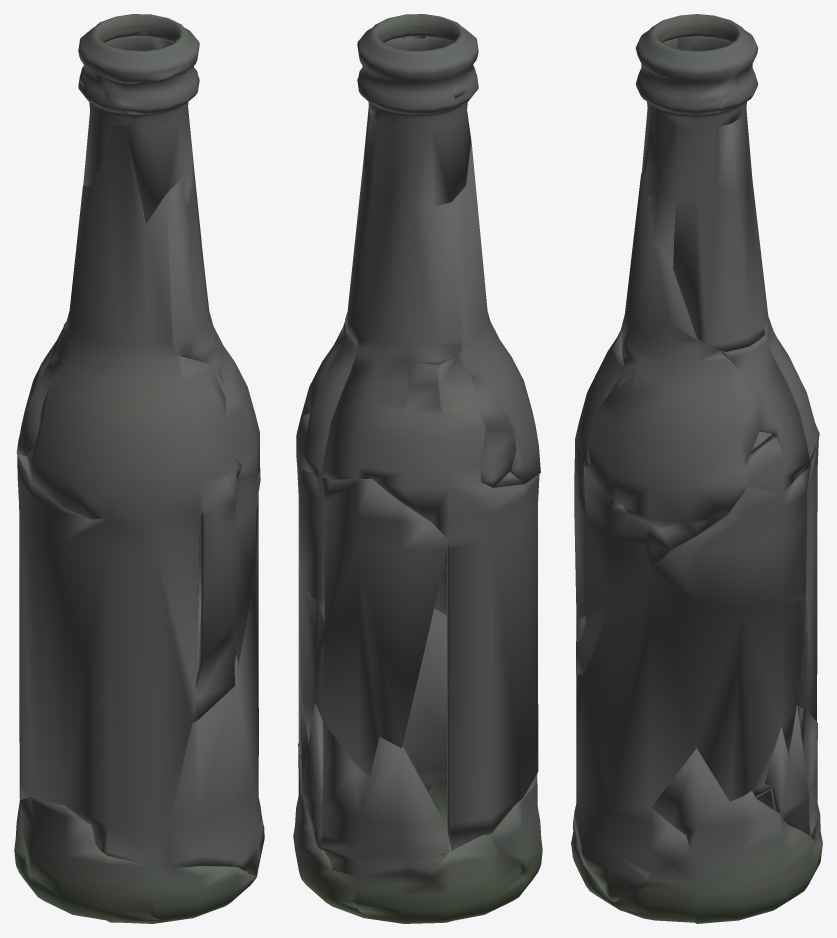
The model's file is bottle.glb.
3 renders of one model, left to right at view 1: azimuth 30°, elevation 25°; view 2: azimuth 150°, elevation 25°; view 3: azimuth 270°, elevation 25°, orthographic.
Parts seen in each view (by area): view 1: tripo_node_6457e7bb-9d34-49f4-8f18-80bffb936507; view 2: tripo_node_6457e7bb-9d34-49f4-8f18-80bffb936507; view 3: tripo_node_6457e7bb-9d34-49f4-8f18-80bffb936507.
Boxes of the visible parts, <box> form: tripo_node_6457e7bb-9d34-49f4-8f18-80bffb936507: <box>14,14,264,923</box>; tripo_node_6457e7bb-9d34-49f4-8f18-80bffb936507: <box>293,14,542,923</box>; tripo_node_6457e7bb-9d34-49f4-8f18-80bffb936507: <box>571,14,822,923</box>.
Bounding box in the file's own units: 0.27 × 0.9995 × 0.27.
1 material, 1 textured.
